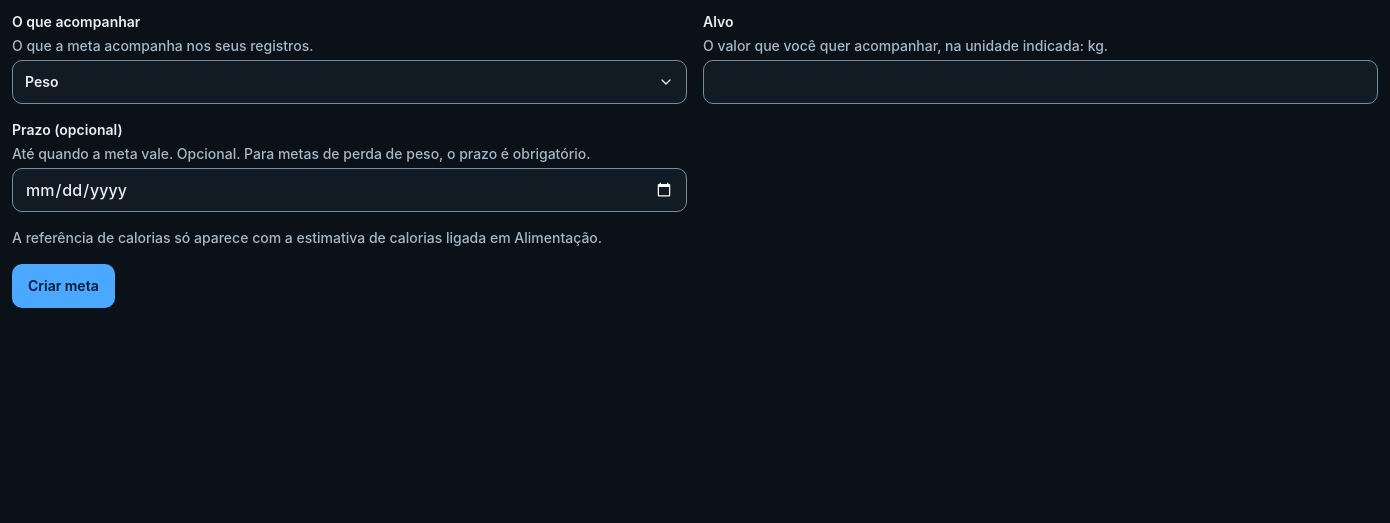
Test: formulários (LEG-M07) › meta bloqueada: aviso acolhedor com apoio, sem número nem alvo alternativo (LEG-M04)
This screenshot has width=1390, height=523.
Step 1. Type "50" into the field labelled "Alvo" → [1040, 82], box [703, 60, 1378, 104]
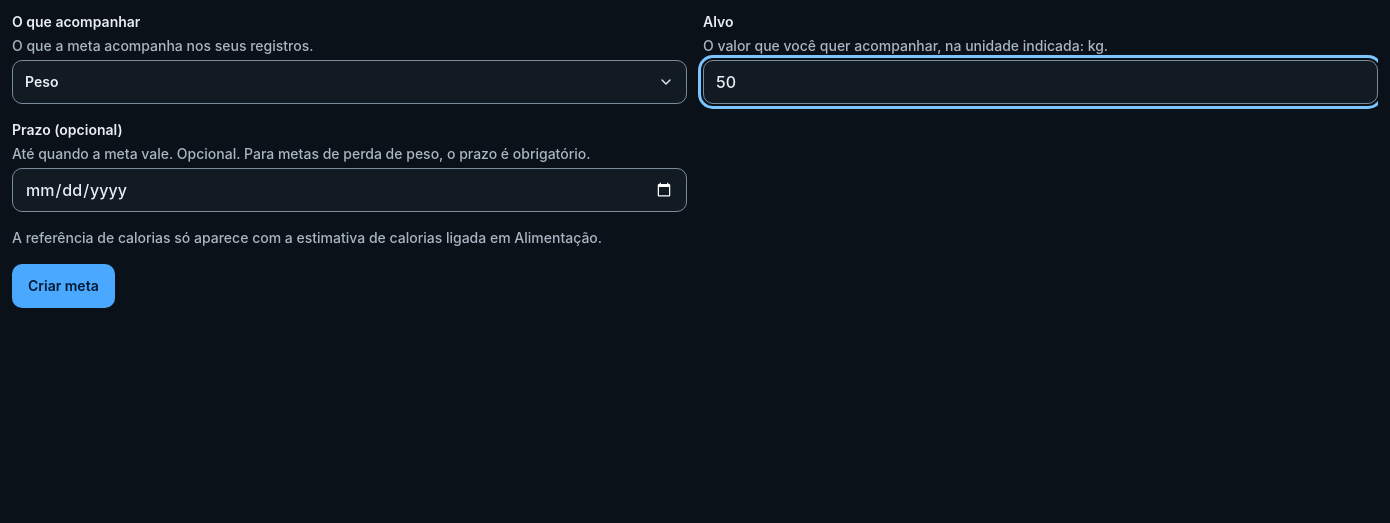
Step 2. Click the button "Criar meta" → [63, 286], box [12, 264, 115, 308]
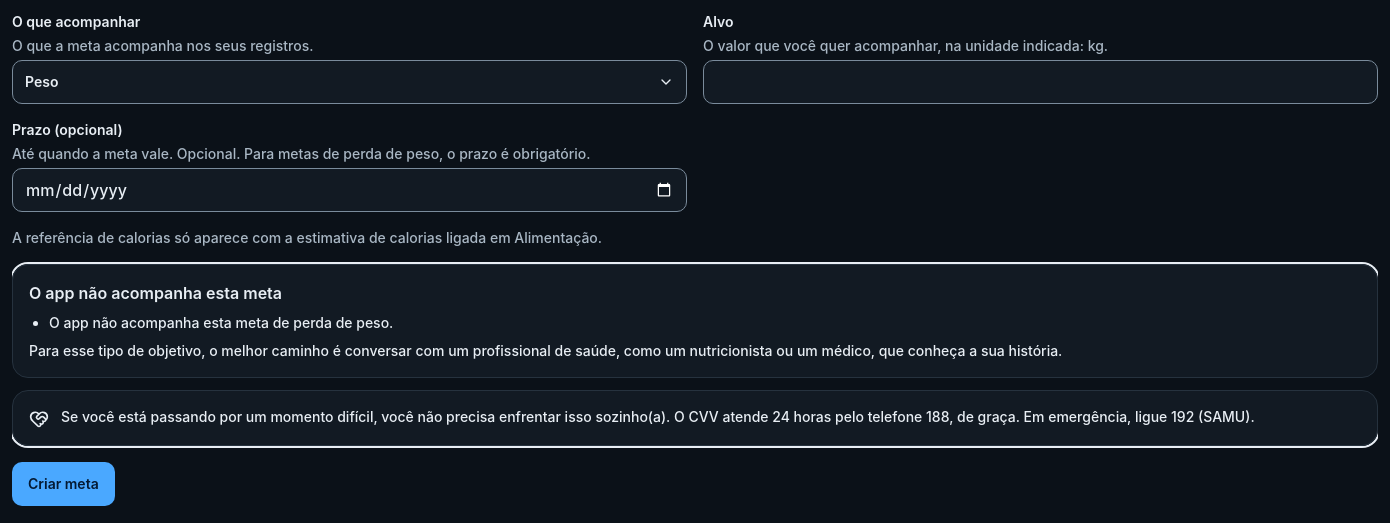
expect the element with test id "guardrail-notice" is shown: met, box [12, 264, 1378, 446]
expect the element with test id "guardrail-notice" shows "188": met, box [61, 408, 1255, 425]
expect the element with test id "guardrail-notice" shows "192": met, box [61, 408, 1255, 425]
